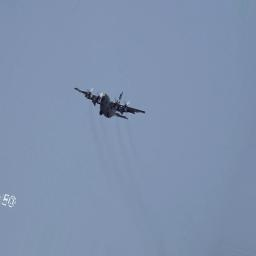Airplane: (74, 86, 146, 120)
